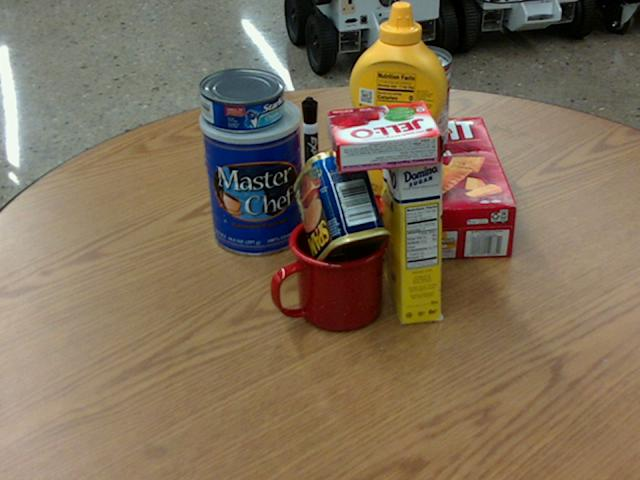cracker_box: (348, 116, 514, 260)
gelatin_box: (327, 100, 442, 171)
large_marker: (300, 98, 319, 198)
master_chef_can: (200, 92, 306, 254)
mug: (267, 214, 386, 332)
mustard_bottle: (348, 2, 447, 197)
potted_meat_can: (292, 148, 390, 270)
sugar_box: (379, 113, 440, 325)
tomato_soup_can: (388, 45, 450, 153)
tuna_fish_can: (198, 67, 284, 130)
